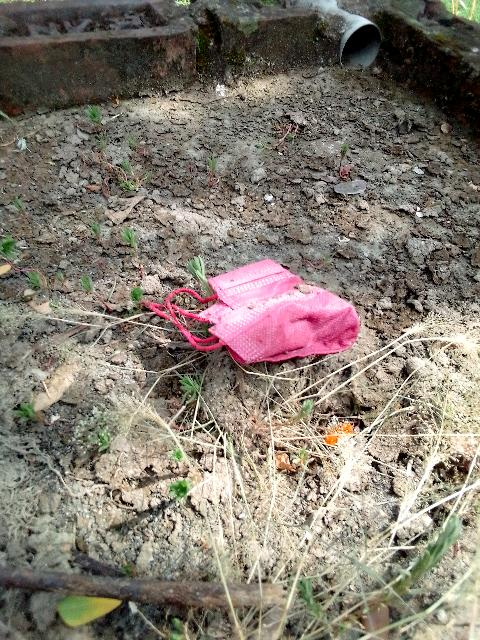mask: (183, 252, 353, 356)
